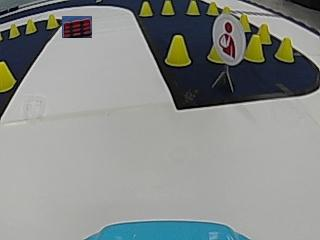cone: (165, 34, 191, 67), (244, 35, 264, 62), (275, 37, 294, 63), (0, 60, 15, 91), (206, 43, 224, 62), (259, 23, 271, 44), (139, 1, 153, 17), (45, 13, 58, 29), (239, 13, 250, 31), (161, 1, 175, 15), (186, 1, 200, 15), (8, 23, 20, 38), (25, 19, 37, 33), (206, 2, 218, 15)
patient: (213, 17, 245, 61)
